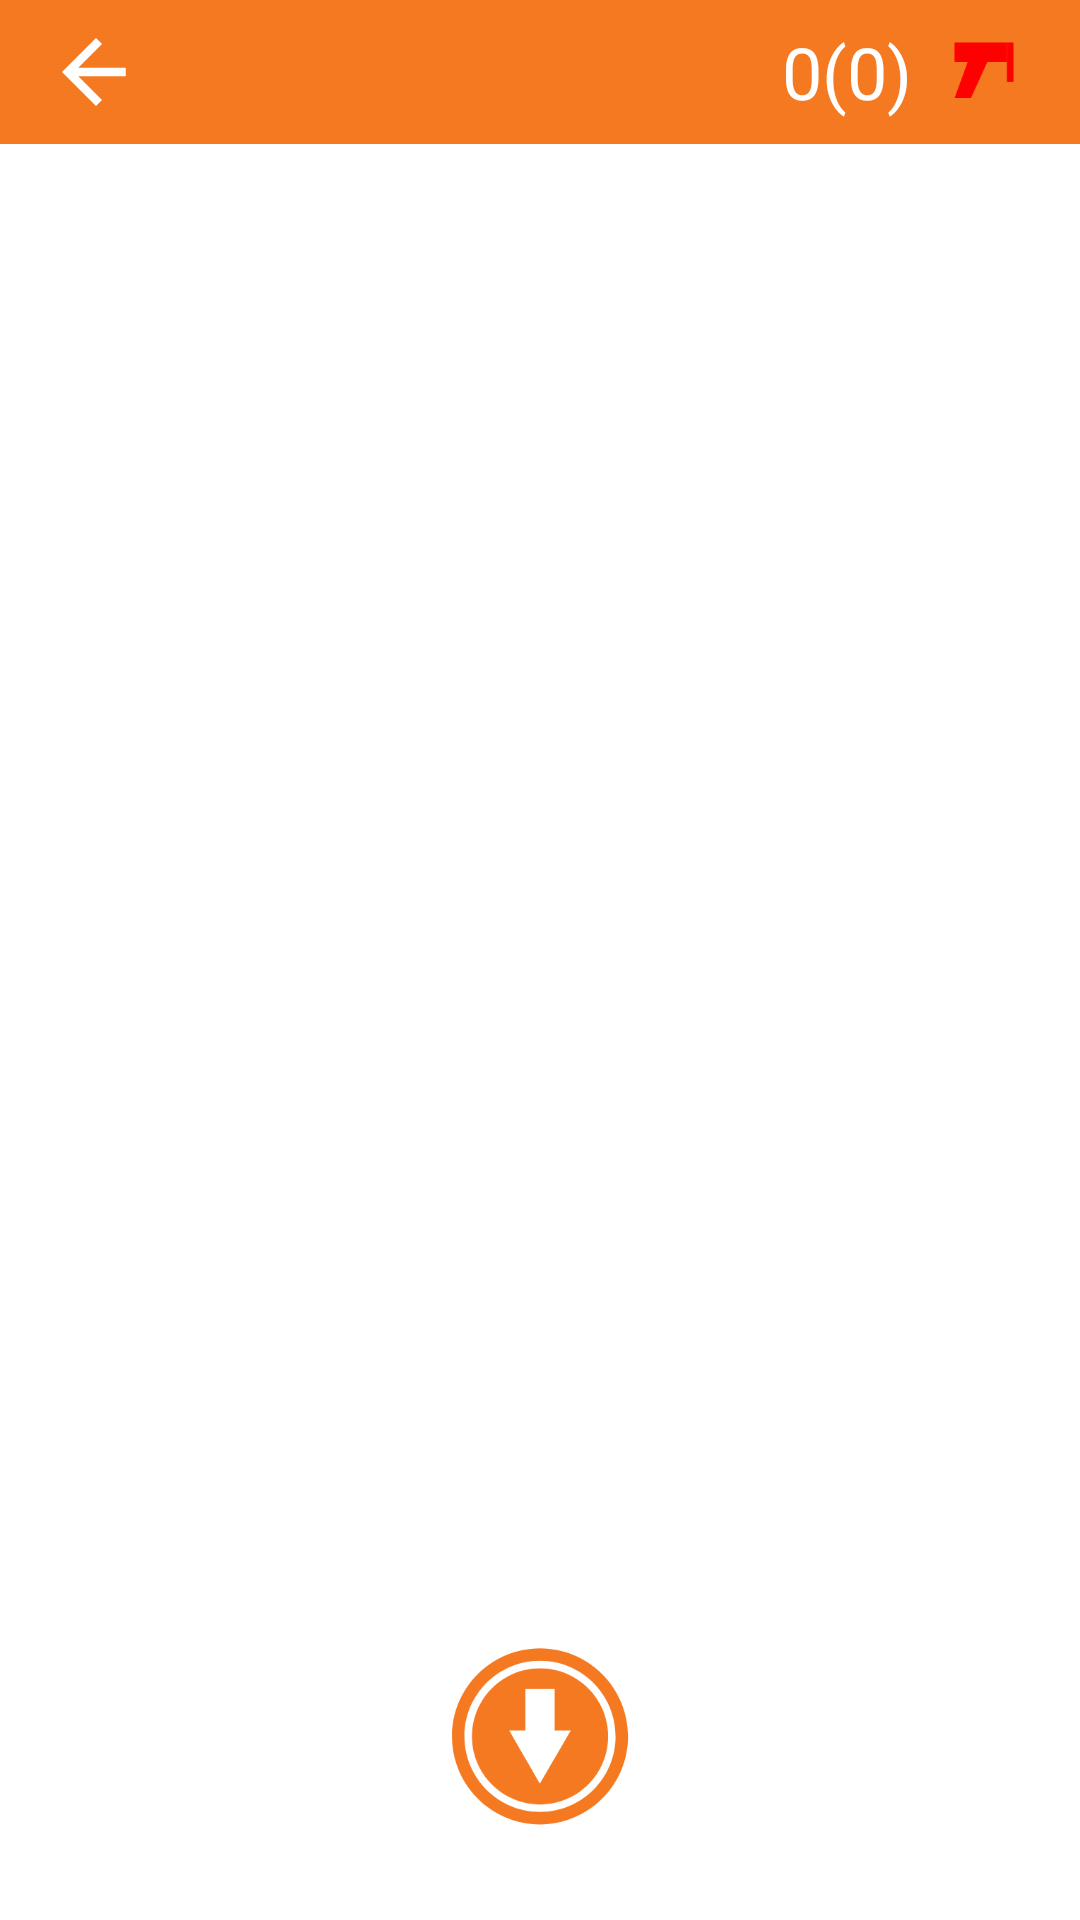

Icons on this 1080 × 1920 Android screen, each with its box as Rect(x1, y1, x2, y2):
Back: Rect(62, 38, 126, 106)
